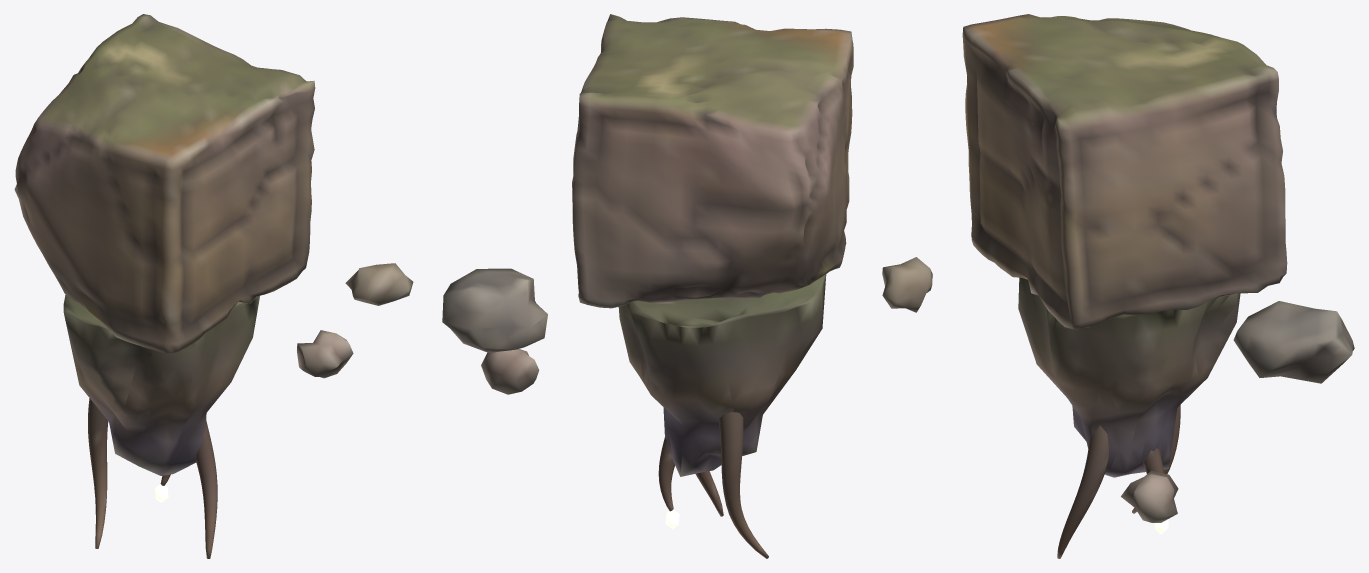
Rendered from ucan_blok_kucuk.glb.
3 renders of one model, left to right at view 1: azimuth 30°, elevation 25°; view 2: azimuth 150°, elevation 25°; view 3: azimuth 270°, elevation 25°, orthographic. The views are drawn at different scales.
Parts seen in each view (by area): view 1: ucan_blok_kucuk_LOD0; view 2: ucan_blok_kucuk_LOD0; view 3: ucan_blok_kucuk_LOD0.
Part boxes in pixels (x1,y1,x2,y2): ucan_blok_kucuk_LOD0: [14, 14, 413, 558]; ucan_blok_kucuk_LOD0: [442, 14, 853, 558]; ucan_blok_kucuk_LOD0: [882, 14, 1354, 558].
Size of what is drawn, in the model's own units: 1.71 by 2.35 by 1.99.
